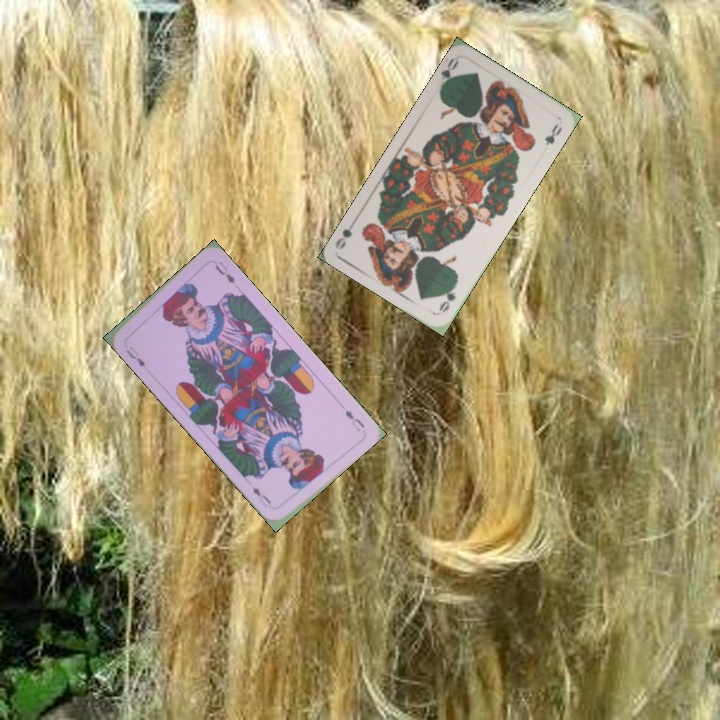EU: (341, 405, 367, 434), (122, 342, 148, 370)
GO: (436, 53, 461, 92), (435, 278, 460, 316)
